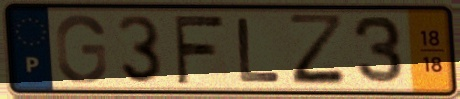3: (349, 14, 407, 88), (116, 13, 166, 85)
F: (170, 13, 227, 87)
G: (53, 12, 109, 85)
L: (233, 15, 285, 85)
Z: (285, 12, 351, 89)
